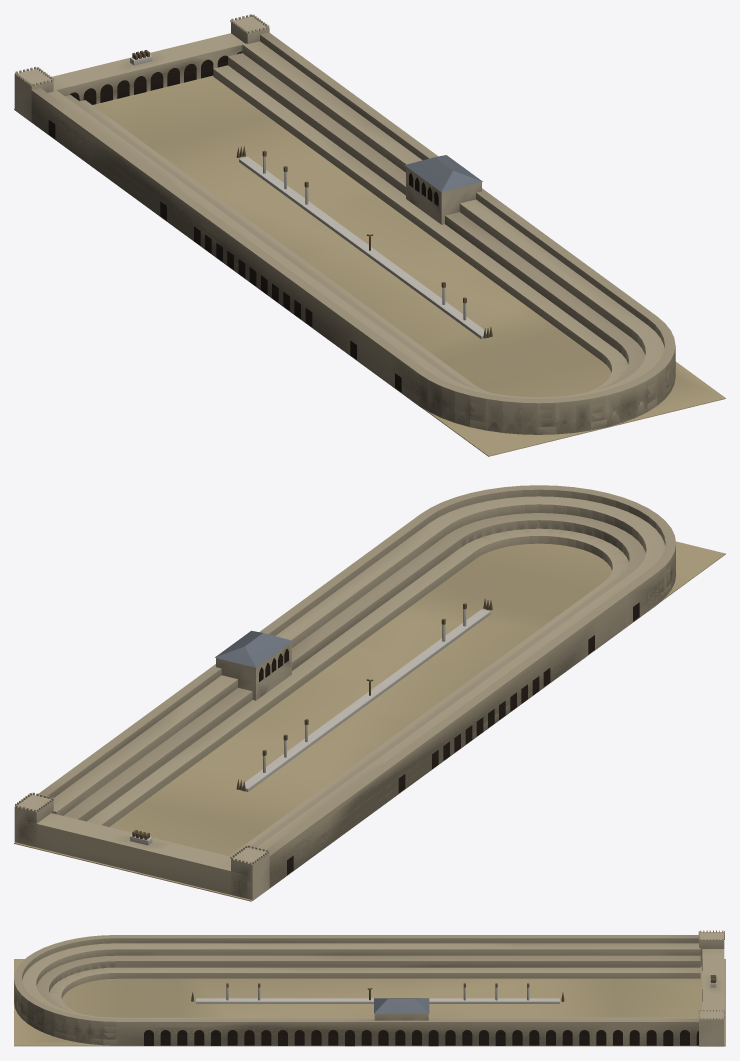
Rendered from hippodrome-337.glb.
The picture shows the model from 3 angles, top to bottom: view 1: azimuth 30°, elevation 25°; view 2: azimuth 150°, elevation 25°; view 3: azimuth 270°, elevation 25°; orthographic projection. The views are drawn at different scales.
Parts seen in each view (by area): view 1: p0_seating, p1_gates, p2_monuments; view 2: p0_seating, p1_gates, p2_monuments; view 3: p0_seating, p1_gates, p2_monuments.
Part boxes in pixels (<box>): p0_seating: <box>14,32,725,456</box>; p1_gates: <box>14,14,482,224</box>; p2_monuments: <box>236,146,492,339</box>; p0_seating: <box>14,485,725,901</box>; p1_gates: <box>14,630,292,900</box>; p2_monuments: <box>236,598,492,791</box>; p0_seating: <box>14,935,725,1046</box>; p1_gates: <box>374,930,724,1046</box>; p2_monuments: <box>191,983,564,1003</box>.
Size of the model in its own units: 131 by 27.17 by 450.
